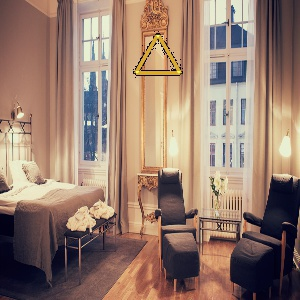triangle: (130, 31, 185, 79)
